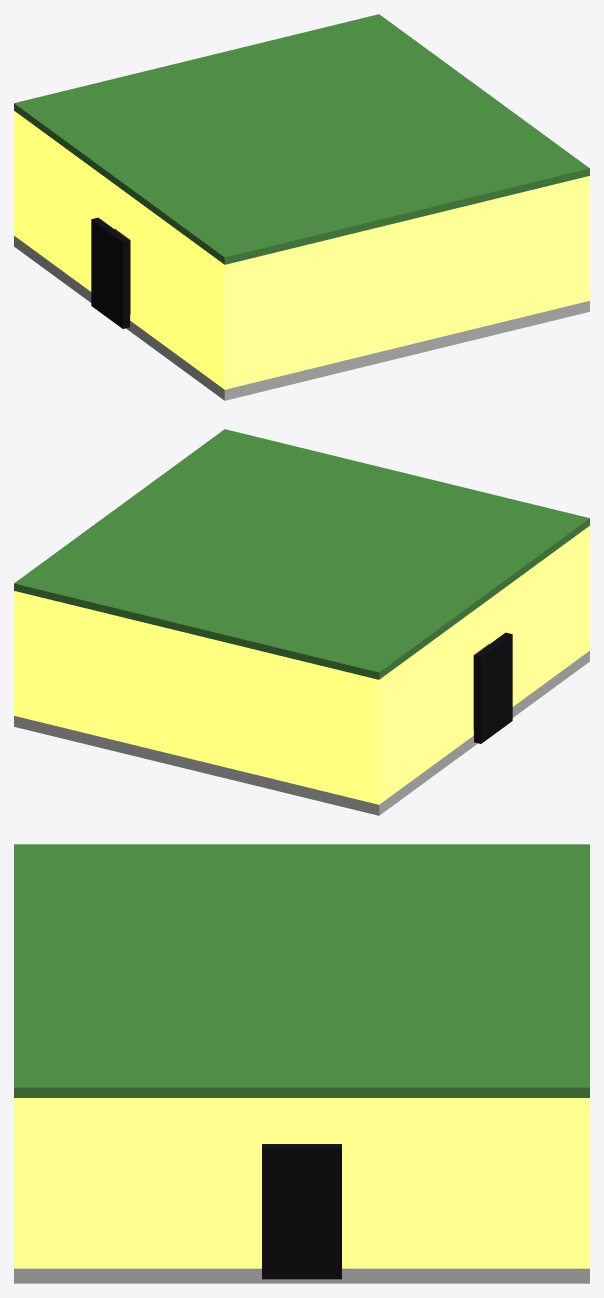
Rendered from rdwe_upside_room.glb.
3 views of the same model, one above another, from view 1: azimuth 30°, elevation 25°; view 2: azimuth 150°, elevation 25°; view 3: azimuth 270°, elevation 25° (orthographic). The views are drawn at different scales.
Visible parts, largest first — view 1: Room_Ceiling, Room_Wall_S_1, Room_Wall_W_3, Room_Wall_W_1, Room_Floor, Beyond_chair, Room_Wall_W_2, Room_Wall_N_1; view 2: Room_Ceiling, Room_Wall_N_1, Room_Wall_W_1, Room_Wall_W_3, Room_Floor, Beyond_chair, Room_Wall_W_2, Room_Wall_S_1; view 3: Room_Ceiling, Room_Wall_E_1, Room_Wall_E_3, Beyond_hall, Room_Floor, Room_Wall_E_2, Room_Wall_N_1, Room_Wall_S_1.
Boxes of the visible parts, x1,y1,x2,y2 form: Room_Ceiling: (14,14,589,264); Room_Wall_S_1: (220,176,589,389); Room_Wall_W_3: (130,196,220,386); Room_Wall_W_1: (18,114,114,291); Room_Floor: (14,236,589,400); Beyond_chair: (91,217,129,328); Room_Wall_W_2: (108,180,130,239); Room_Wall_N_1: (14,111,17,237); Room_Ceiling: (14,429,589,679); Room_Wall_N_1: (14,591,383,804); Room_Wall_W_1: (383,611,473,801); Room_Wall_W_3: (489,529,585,706); Room_Floor: (14,651,589,815); Beyond_chair: (474,632,512,743); Room_Wall_W_2: (473,595,495,654); Room_Wall_S_1: (586,526,589,652); Room_Ceiling: (14,844,589,1097); Room_Wall_E_1: (329,1098,578,1268); Room_Wall_E_3: (25,1098,274,1268); Beyond_hall: (262,1144,341,1279); Room_Floor: (14,1268,589,1283); Room_Wall_E_2: (275,1098,328,1143); Room_Wall_N_1: (579,1098,589,1268); Room_Wall_S_1: (14,1098,24,1268).
Bounding box in the file's own units: 11.1 × 3.9 × 10.4.
